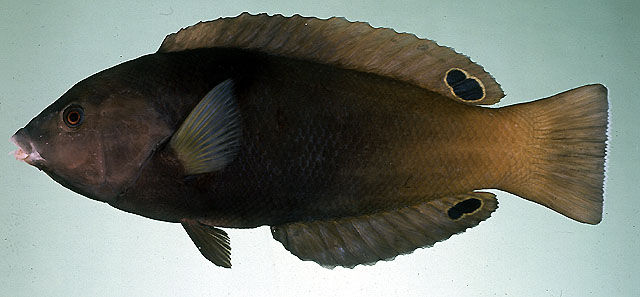fish: (13, 12, 610, 269)
